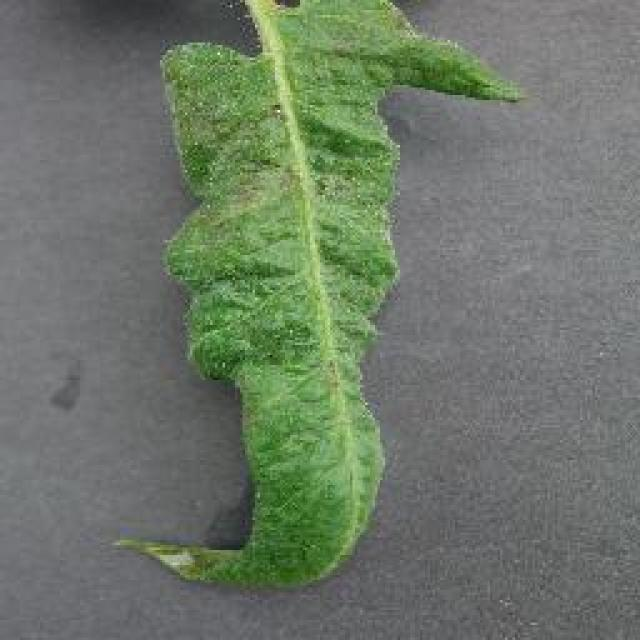Tomato___Late_blight: (120, 0, 525, 595)
